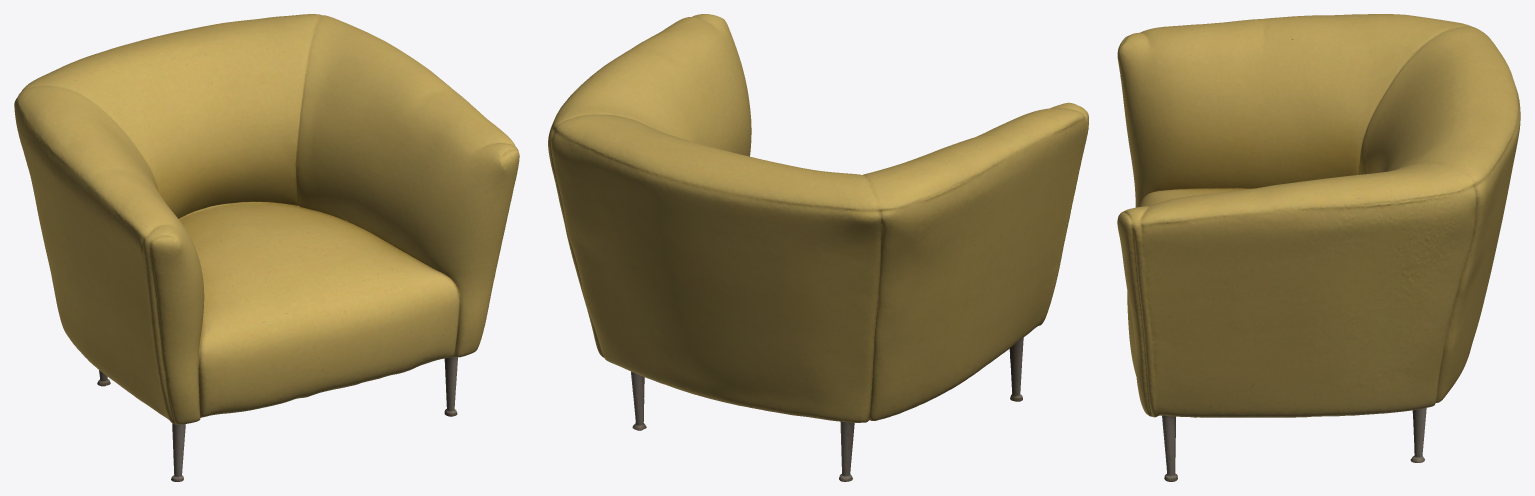
File: asset.glb
3 views of the same model, side by side, from view 1: azimuth 30°, elevation 25°; view 2: azimuth 150°, elevation 25°; view 3: azimuth 270°, elevation 25° (orthographic). The views are drawn at different scales.
Visible parts, largest first — view 1: geometry_0; view 2: geometry_0; view 3: geometry_0.
Boxes of the visible parts, x1,y1,x2,y2 form: geometry_0: (14,14,519,481); geometry_0: (548,14,1088,481); geometry_0: (1117,14,1520,481).
Size of the model in its own units: 1 by 0.7625 by 0.882.
1 material, 1 textured.
